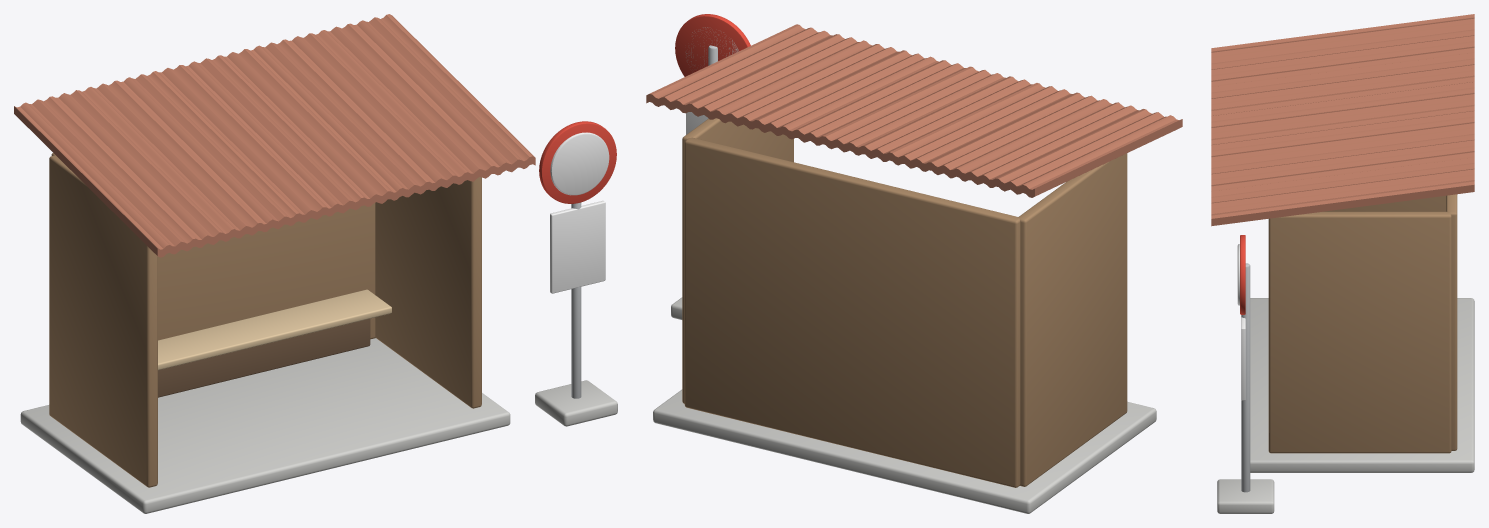
The model's file is bus_stop.glb.
The picture shows the model from 3 angles, left to right: view 1: azimuth 30°, elevation 25°; view 2: azimuth 150°, elevation 25°; view 3: azimuth 270°, elevation 25°; orthographic projection. The views are drawn at different scales.
Parts seen in each view (by area): view 1: bus_stop; view 2: bus_stop; view 3: bus_stop.
Part boxes in pixels (x1,y1,x2,y2): bus_stop: (14,14,617,513); bus_stop: (646,14,1182,513); bus_stop: (1211,14,1474,513).
Size of the model in its own units: 4.4 by 2.83 by 2.3.
